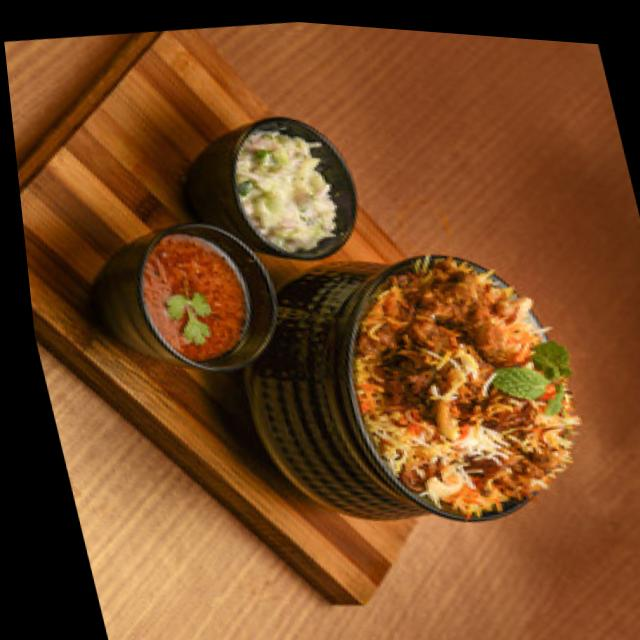BIRIYANI: (354, 259, 579, 519)
CURD: (236, 134, 336, 252)
CURRY: (144, 236, 245, 362)
